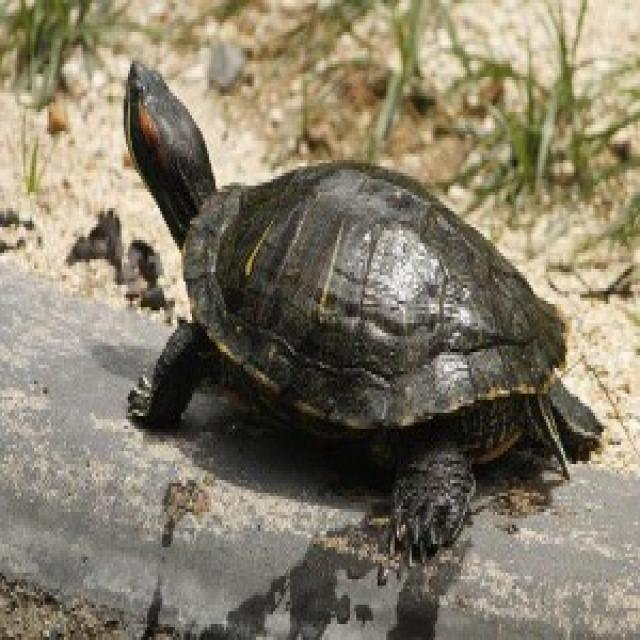Sea turtle: (106, 46, 619, 562)
